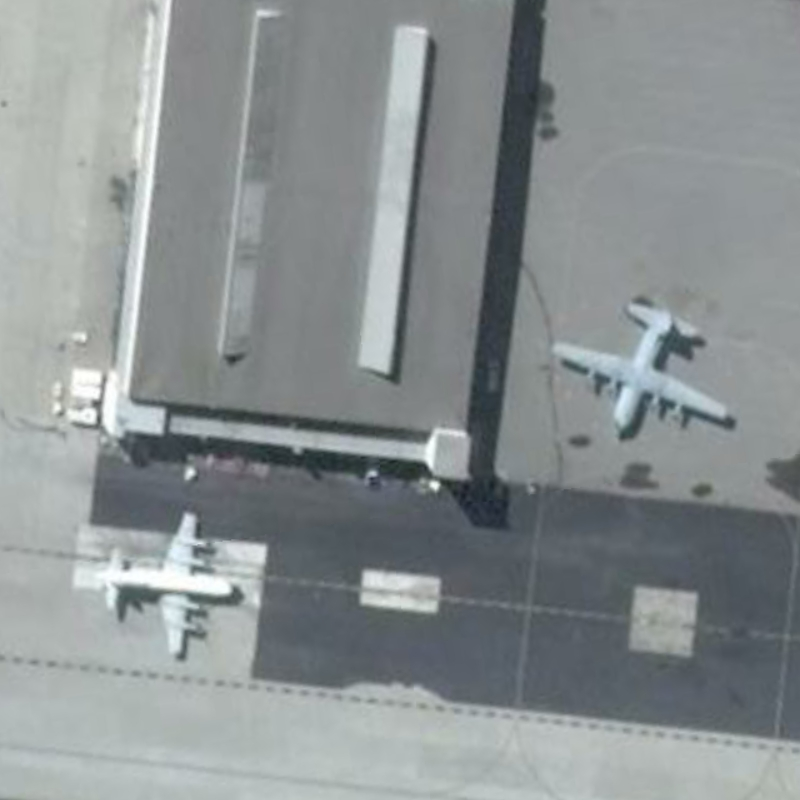A2: (547, 291, 739, 454)
A9: (77, 503, 246, 664)
